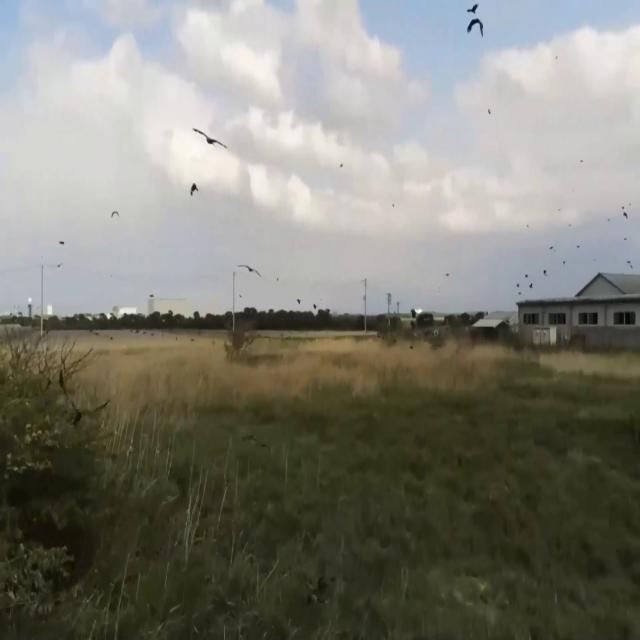bird: (190, 111, 227, 162), (466, 5, 484, 53), (242, 256, 261, 284), (189, 174, 199, 205), (110, 201, 120, 227), (622, 202, 628, 224)
